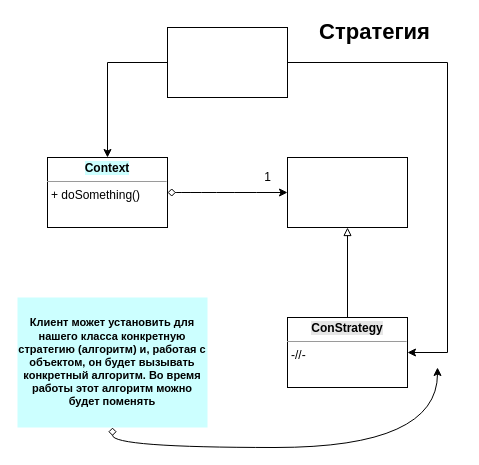
Some shapes in this 479 by 465 pixel diagram are drawn without their labels. The centre of each missing label's shape, as x and y in pixels:
"Client" belongs at point 227,62.
"Strategy + algorithm()" belongs at point 347,192.
